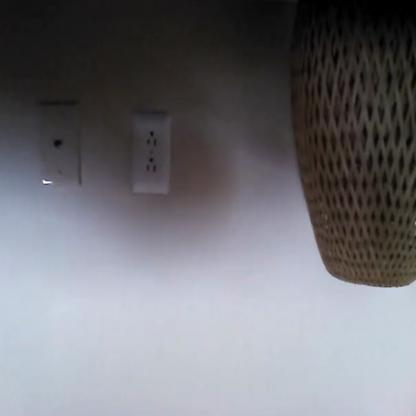OUTLET: (131, 114, 172, 193)
